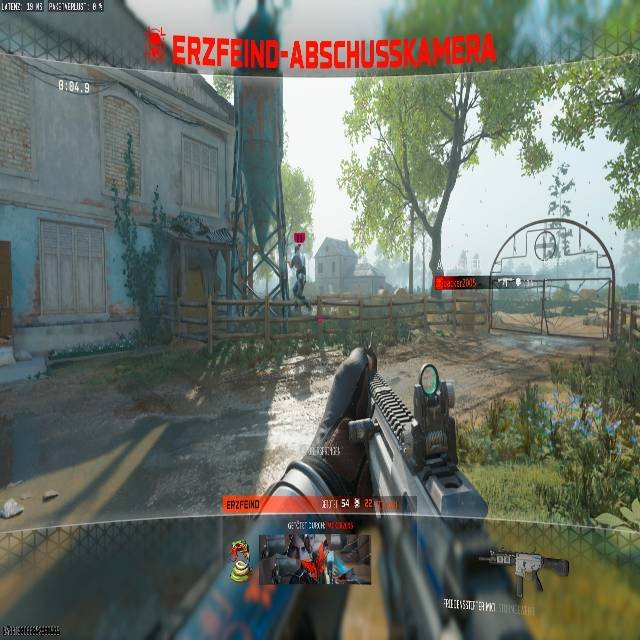player: (289, 247, 306, 305)
